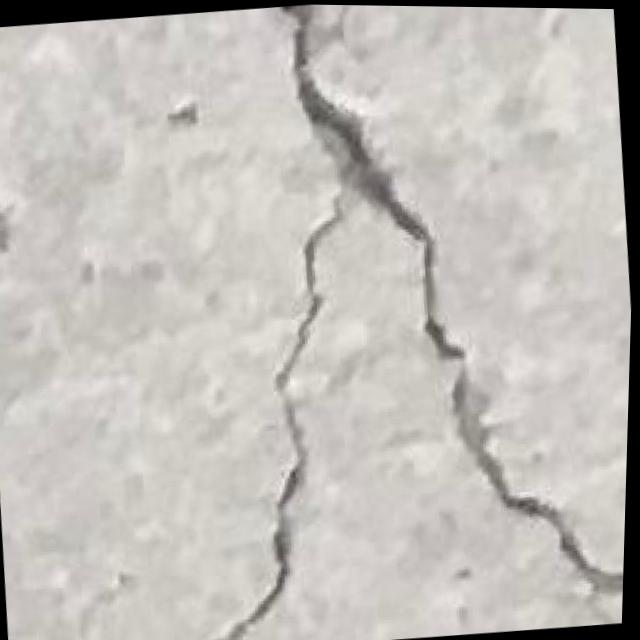Crack: (153, 2, 640, 640)
